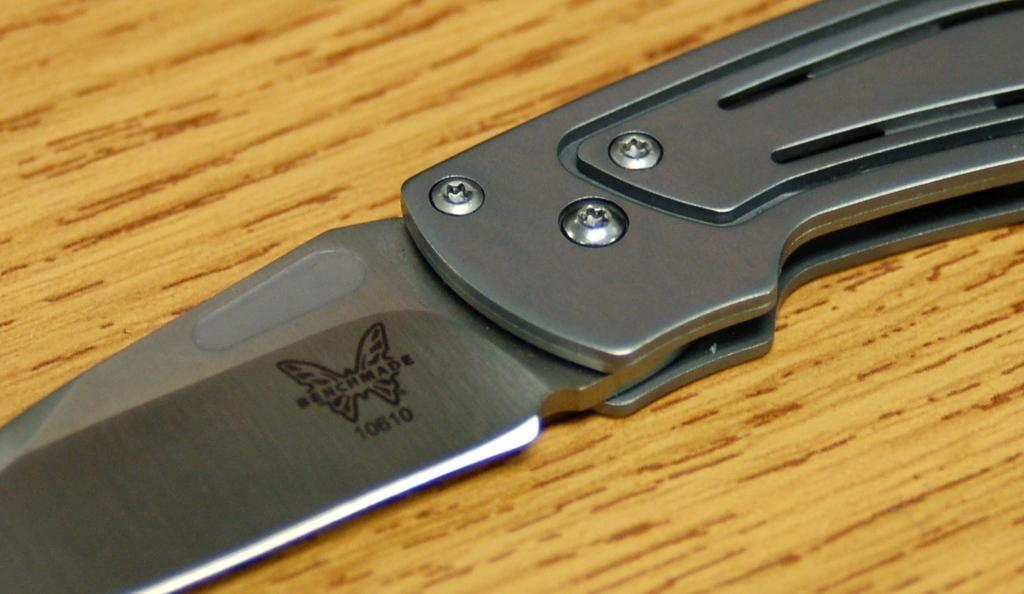melee: (5, 81, 905, 588)
